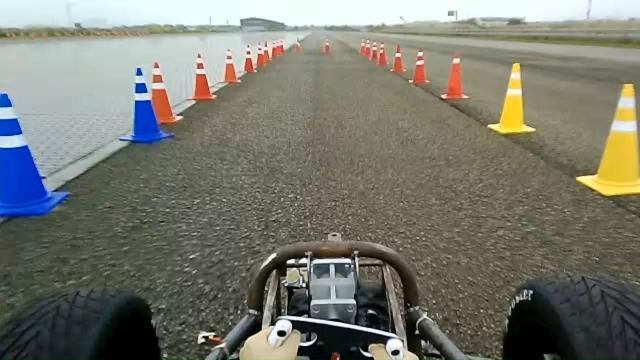blue cone: (0, 92, 71, 217), (118, 66, 166, 144)
red cone: (150, 61, 183, 123), (440, 52, 470, 100), (186, 53, 216, 100), (220, 48, 242, 84)
yellow cone: (571, 69, 640, 195), (484, 55, 540, 139)
